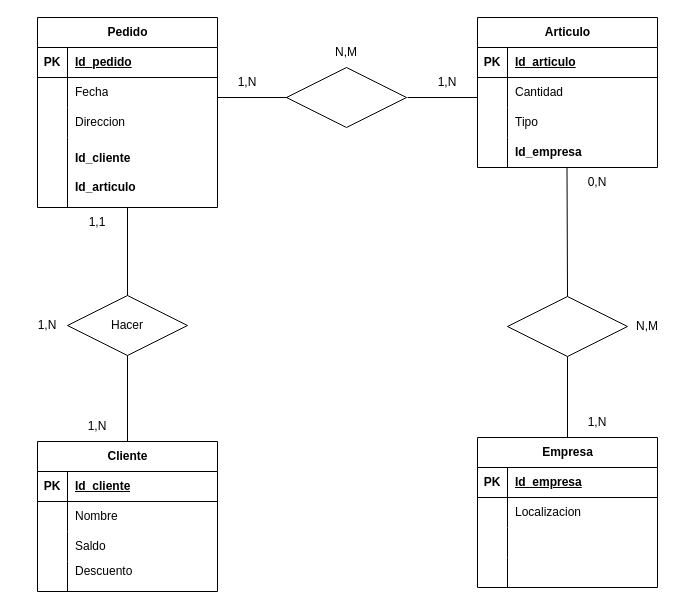
The diagram is 694 pixels wide and 609 high, and some of its shapes have lost their labels. Here are the shapes that lost their labels. From the top down, the box of each, then its label:
(286, 66, 406, 128): Tiene
(506, 296, 628, 356): Fabricar
